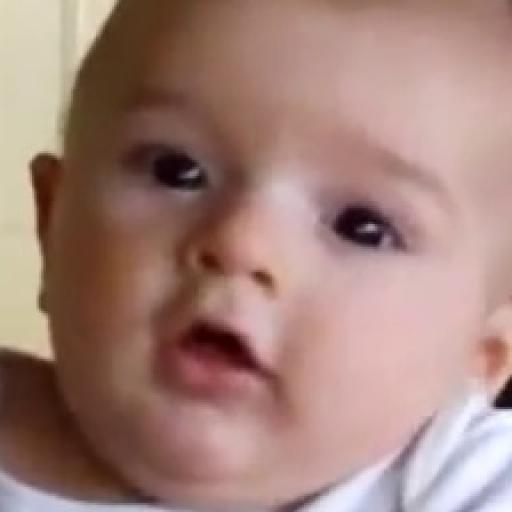Autism: (82, 4, 500, 502)
